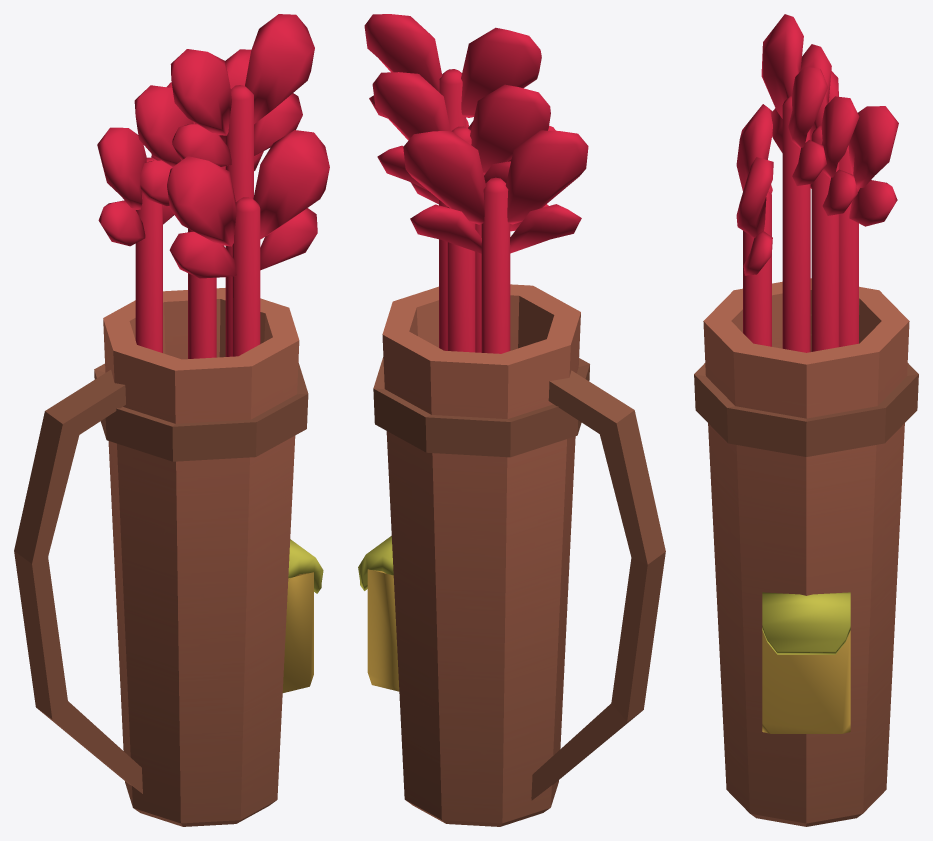
Rendered from ArrowsRandomEffect.fbx.
3 views of the same model, side by side, from view 1: azimuth 30°, elevation 25°; view 2: azimuth 150°, elevation 25°; view 3: azimuth 270°, elevation 25° (orthographic).
Parts seen in each view (by area): view 1: Quiver, Fire Arrows, Cylinder.013, Cube.029, Cube.030; view 2: Quiver, Fire Arrows, Cylinder.013, Cube.029, Cube.030; view 3: Quiver, Fire Arrows, Cube.029, Cube.030.
Part boxes in pixels (<box>): Quiver: <box>94,288,308,826</box>; Fire Arrows: <box>97,14,329,358</box>; Cylinder.013: <box>14,370,142,793</box>; Cube.029: <box>282,572,313,692</box>; Cube.030: <box>288,539,323,593</box>; Quiver: <box>373,284,589,826</box>; Fire Arrows: <box>364,14,588,353</box>; Cylinder.013: <box>531,370,665,800</box>; Cube.029: <box>367,569,399,691</box>; Cube.030: <box>358,536,393,590</box>; Quiver: <box>694,278,918,826</box>; Fire Arrows: <box>736,14,898,352</box>; Cube.029: <box>762,631,850,733</box>; Cube.030: <box>762,592,850,654</box>.
Bounding box in the file's own units: 239 × 605 × 160.
